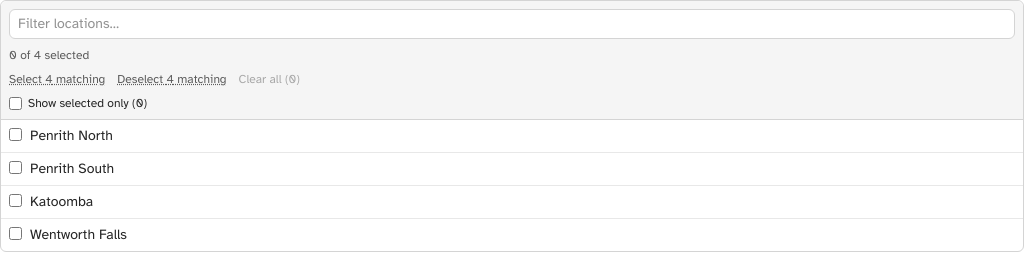
Test: MultiSelectList › matches tokens regardless of order
Type "north pen" into the field labelled "Filter locations" at coordinates (512, 24), box [9, 9, 1015, 39]
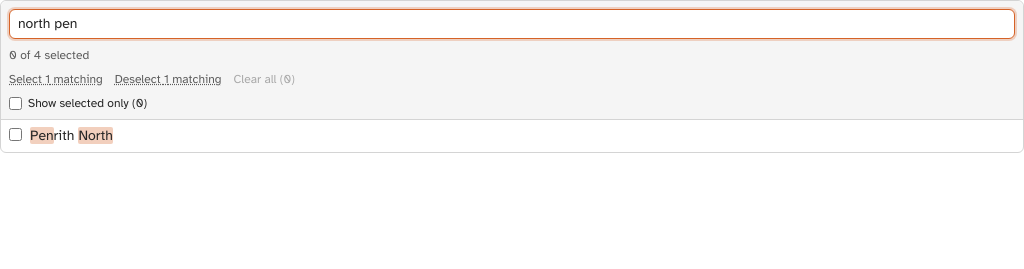
Check: the checkbox labelled "Penrith North" is shown, box [9, 128, 22, 141]
Check: the text "Penrith South" is gone
